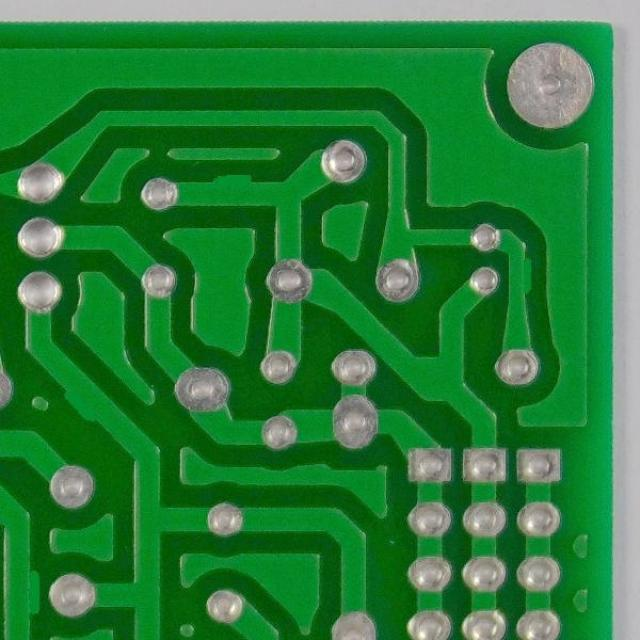spur: (55, 383, 108, 429), (12, 562, 45, 623), (207, 165, 258, 198), (506, 252, 538, 301)
